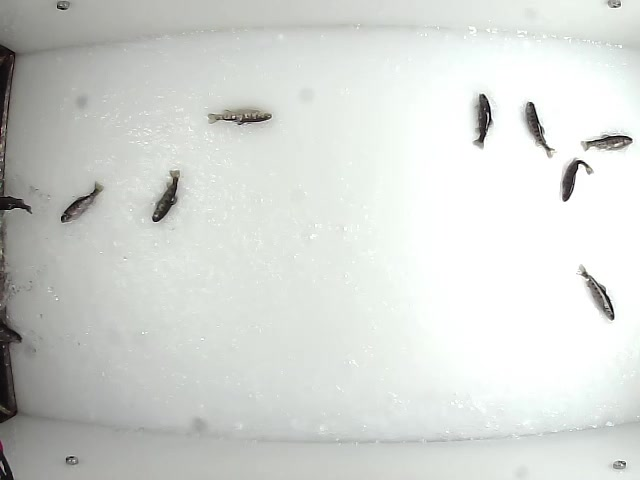fish: (573, 264, 618, 323), (523, 100, 558, 158), (59, 180, 104, 224), (150, 168, 184, 224), (559, 158, 596, 201), (470, 93, 494, 152), (205, 107, 273, 127), (578, 133, 635, 153)
